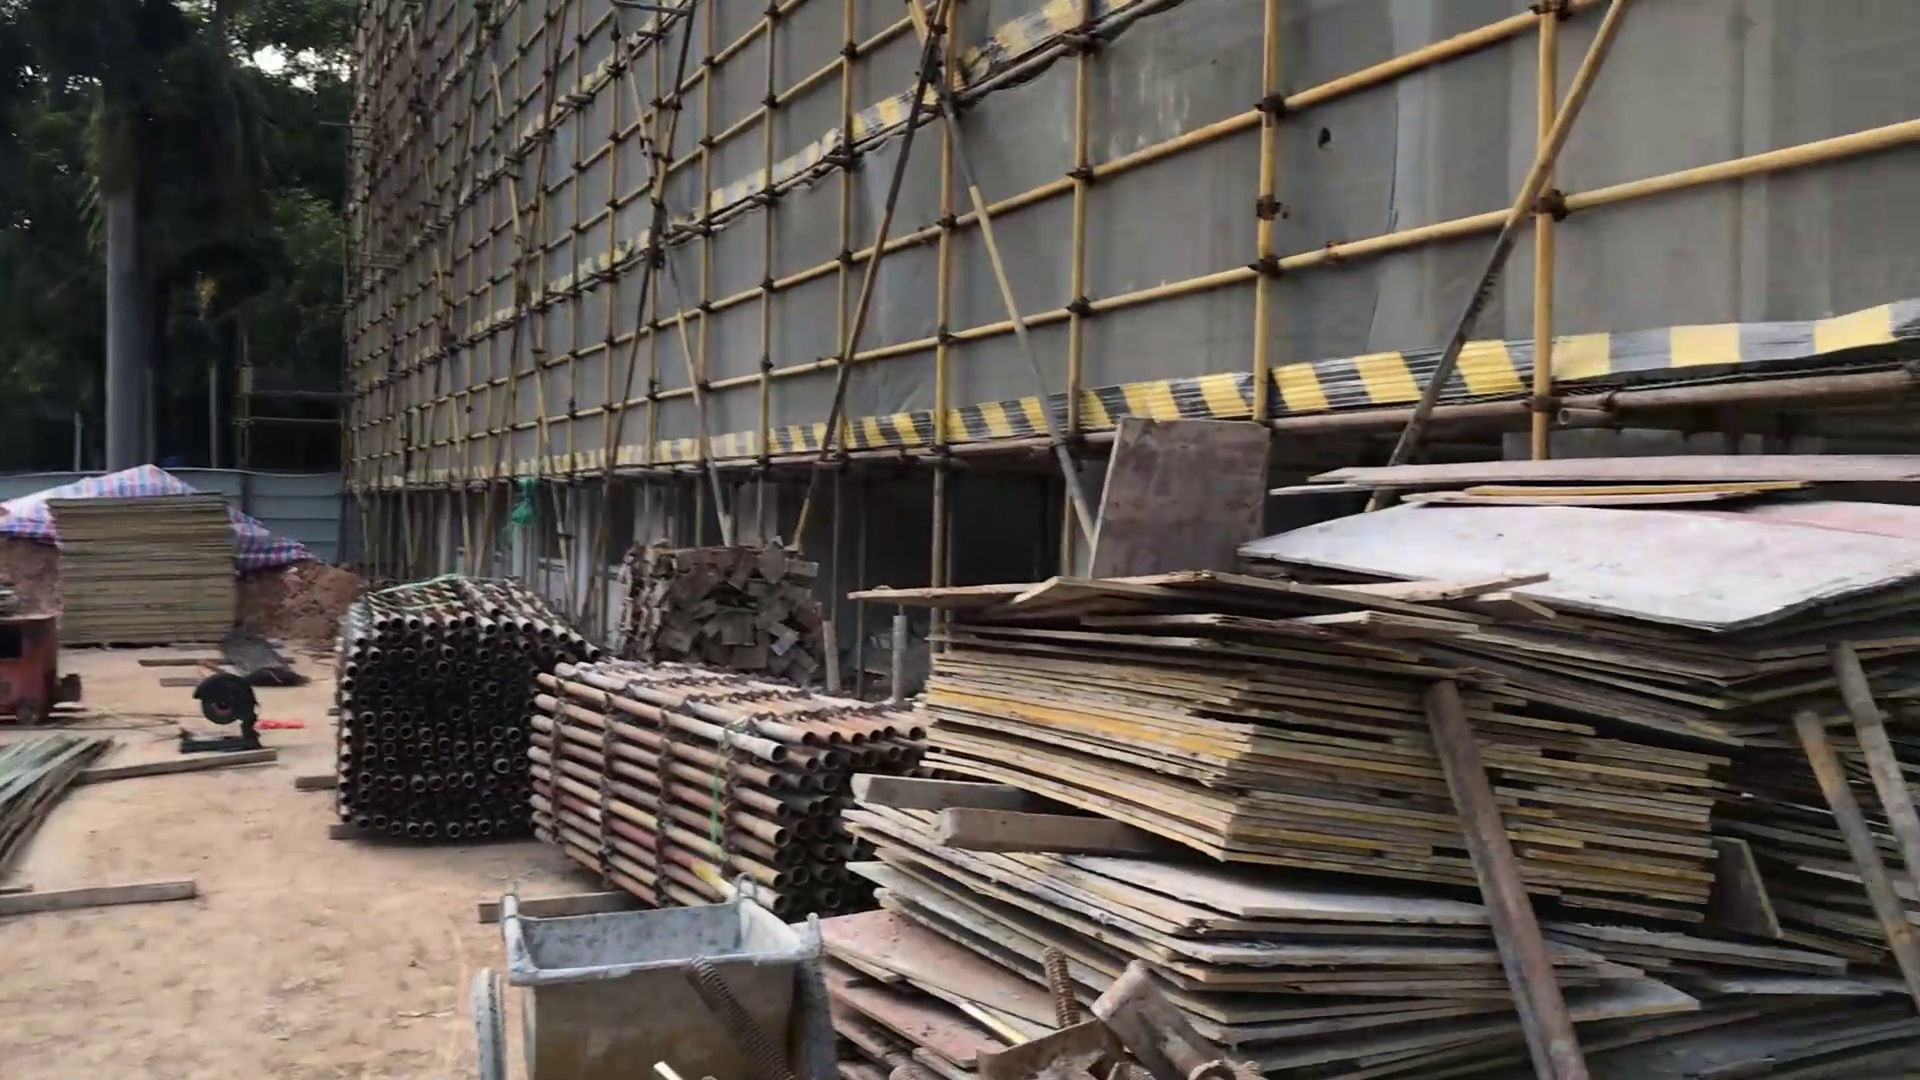board: (825, 491, 1920, 1079), (41, 473, 251, 659)
cutter: (171, 667, 274, 762)
handcart: (455, 878, 847, 1080)
scaffold: (529, 633, 926, 928), (319, 567, 612, 857)
